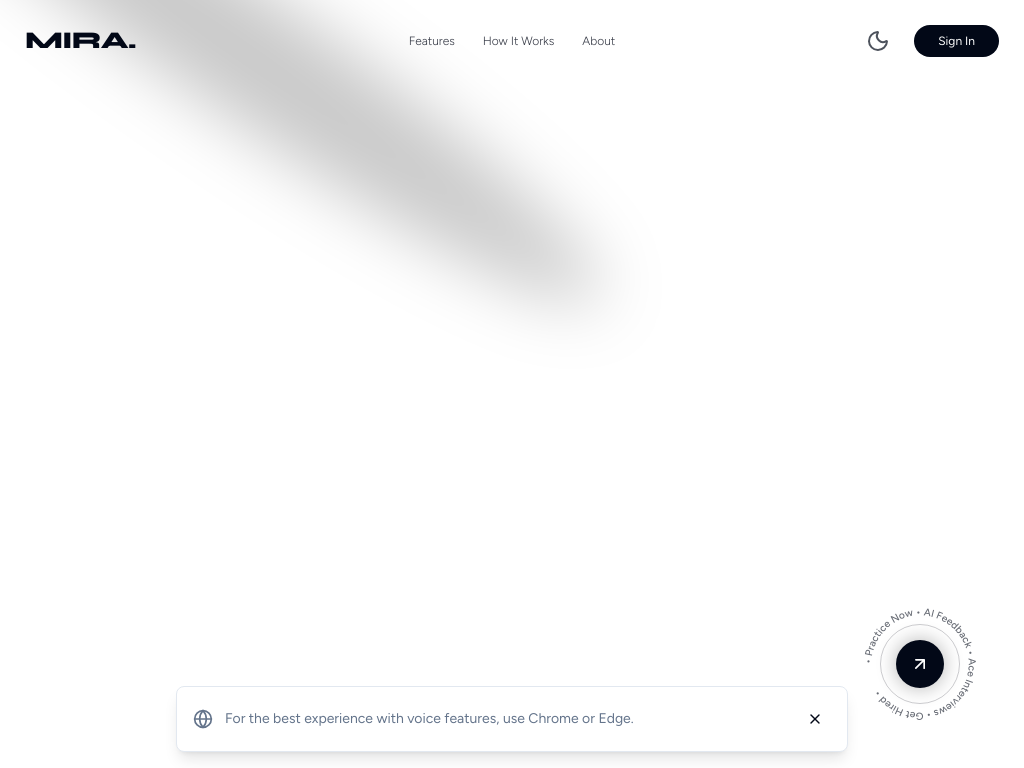
it: Landing Page › removes browser banner from DOM when dismissed
Check: the element with test id "browser-banner" is shown, box left=176, top=686, right=848, bottom=752
Click the button with test id "banner-dismiss": point(815, 719) left=799, top=703, right=831, bottom=735
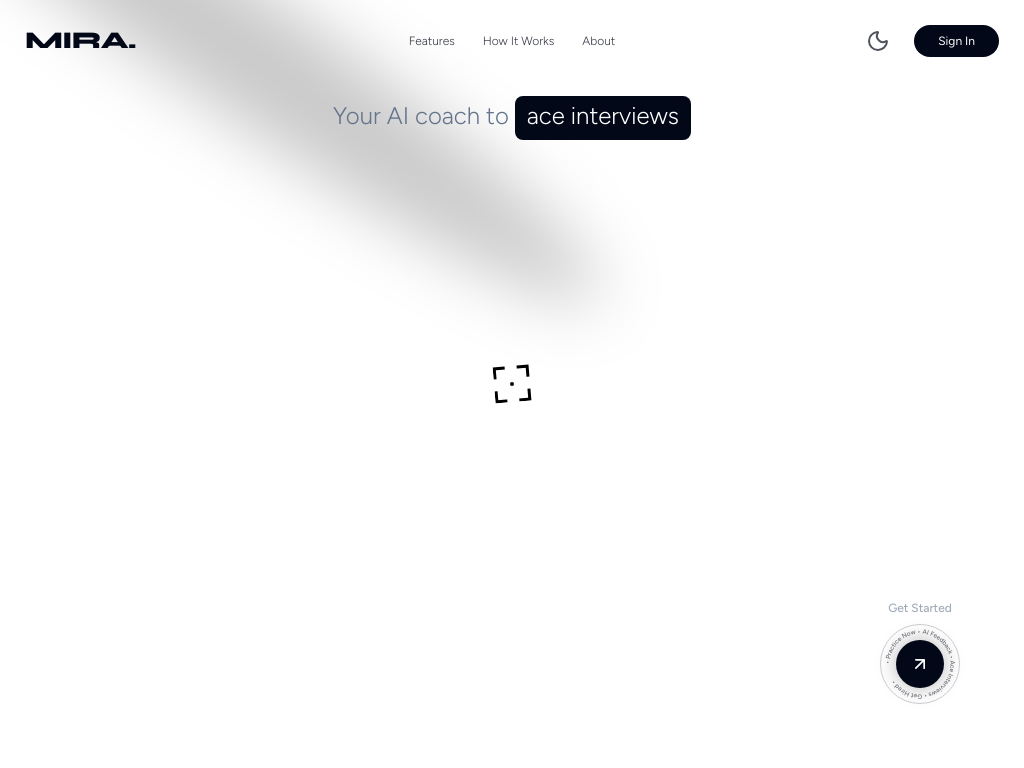
Check: the element with test id "browser-banner" is gone
